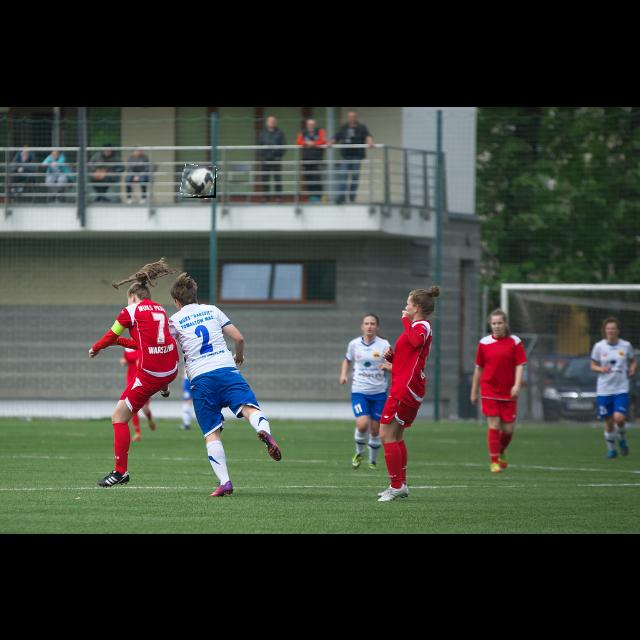Football: (182, 166, 216, 198)
